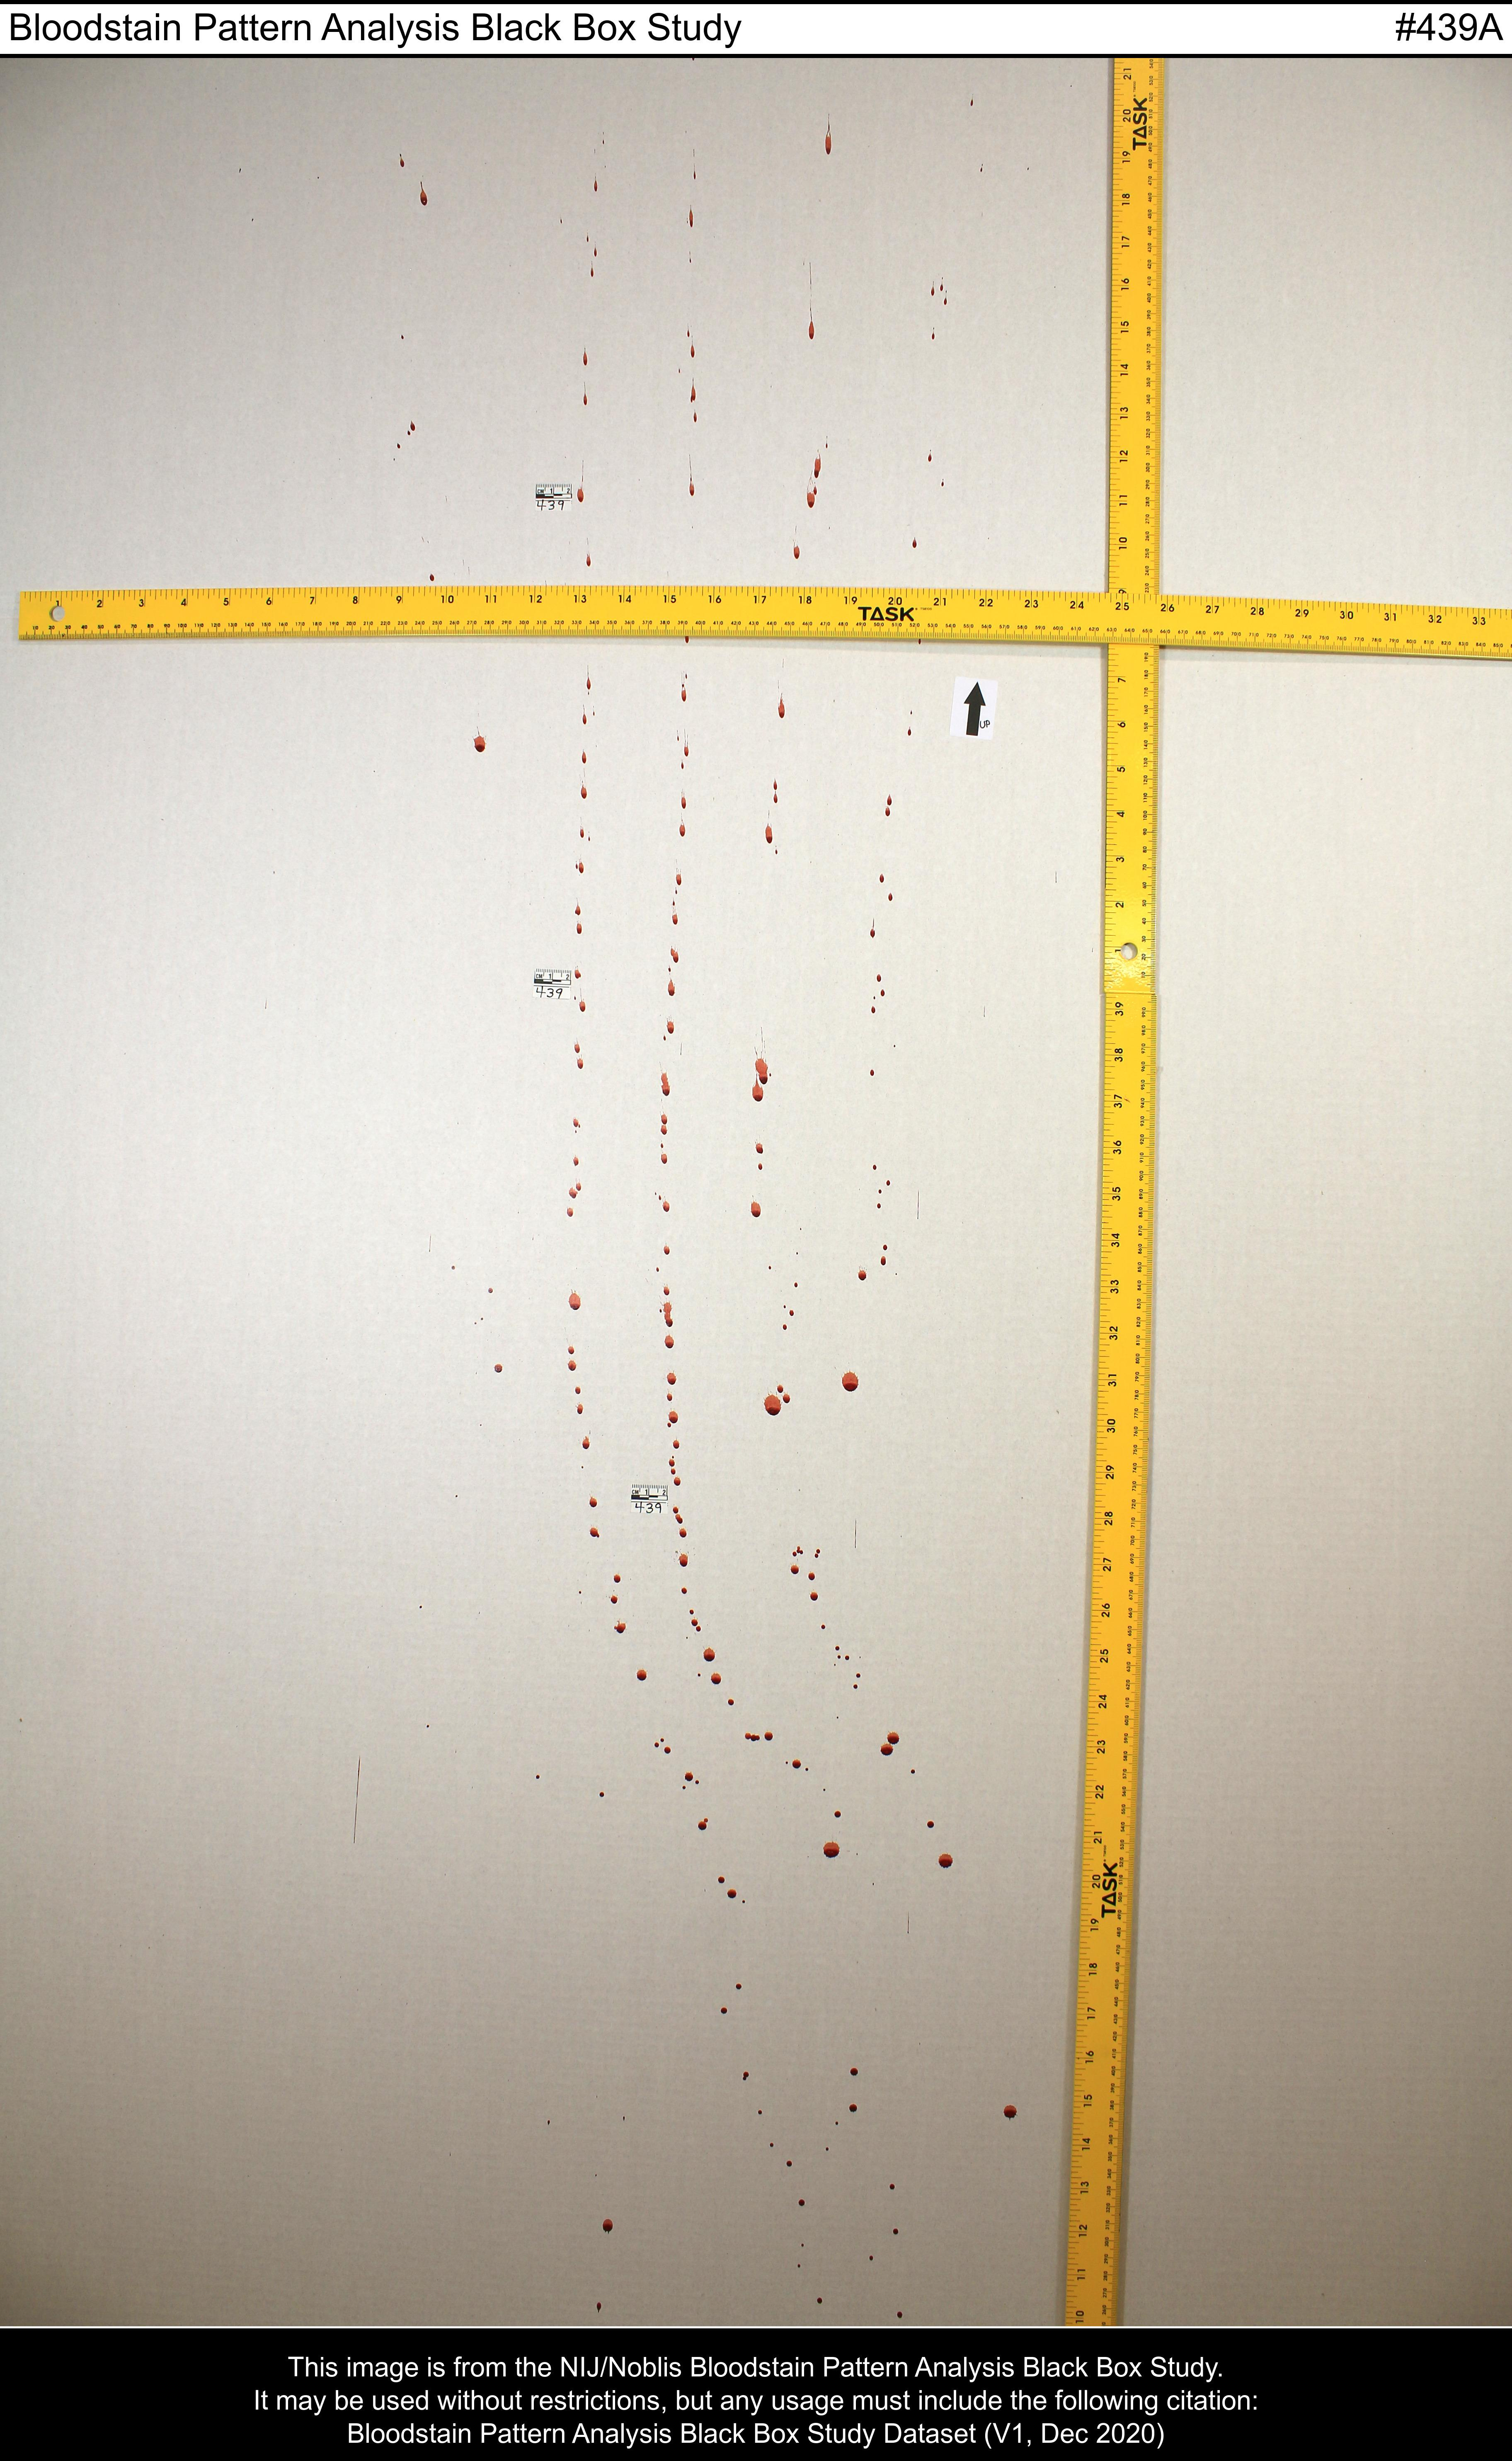Impact: (257, 62, 1053, 2329)
